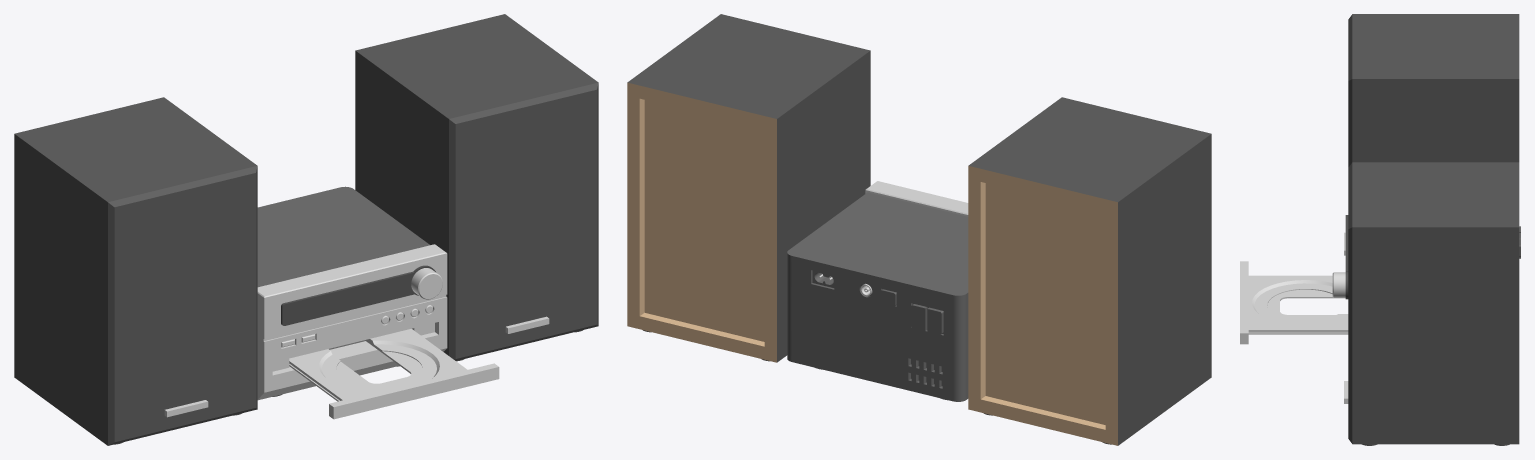
File: 835_stereo_component_open.glb
3 views of the same model, side by side, from view 1: azimuth 30°, elevation 25°; view 2: azimuth 150°, elevation 25°; view 3: azimuth 270°, elevation 25° (orthographic). The views are drawn at different scales.
Parts seen in each view (by area): view 1: Body, tray; view 2: Body; view 3: Body, tray.
Part boxes in pixels (left/top/right/bottom): Body: left=14, top=14, right=598, bottom=445; tray: left=289, top=328, right=499, bottom=419; Body: left=627, top=14, right=1211, bottom=445; Body: left=1332, top=14, right=1520, bottom=445; tray: left=1240, top=261, right=1348, bottom=344.
Bounding box in the file's own units: 0.59 × 0.285 × 0.3285.
